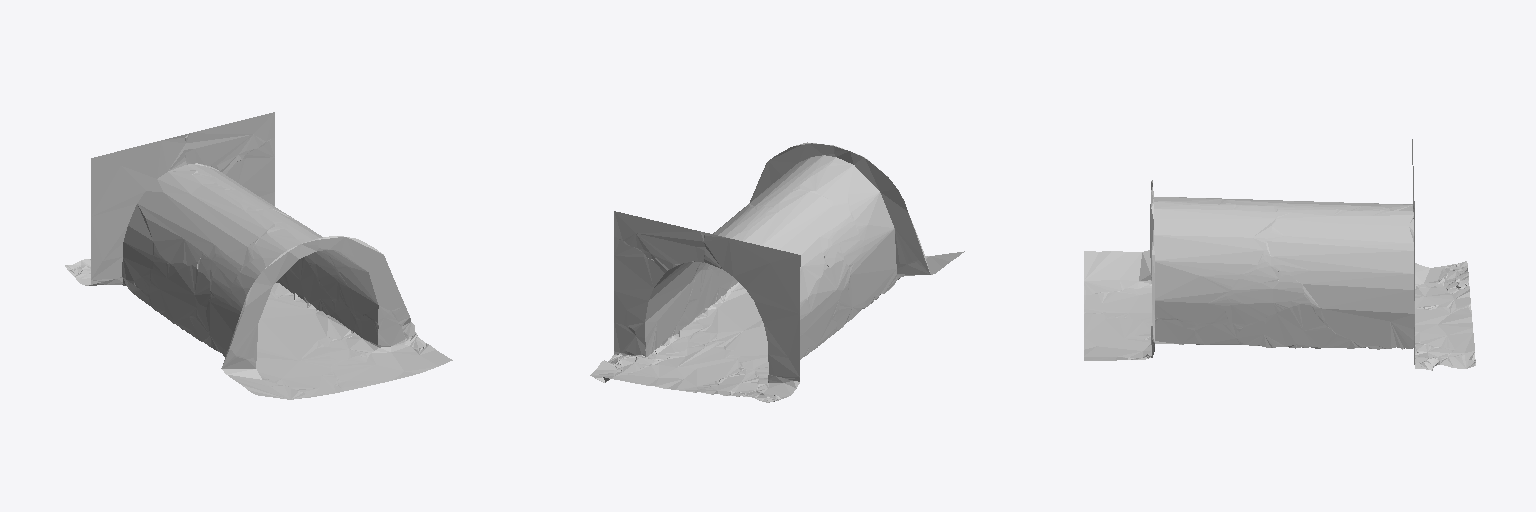
Rendered from tunnel.obj.
3 renders of one model, left to right at view 1: azimuth 30°, elevation 25°; view 2: azimuth 150°, elevation 25°; view 3: azimuth 270°, elevation 25°, orthographic.
Visible parts, largest first — view 1: tunnel:most_brno_tunel3; view 2: tunnel:most_brno_tunel3; view 3: tunnel:most_brno_tunel3.
Boxes of the visible parts, x1,y1,x2,y2 form: tunnel:most_brno_tunel3: [65, 112, 452, 399]; tunnel:most_brno_tunel3: [590, 142, 964, 402]; tunnel:most_brno_tunel3: [1084, 139, 1475, 370].
Bounding box in the file's own units: 202 × 144 × 349.